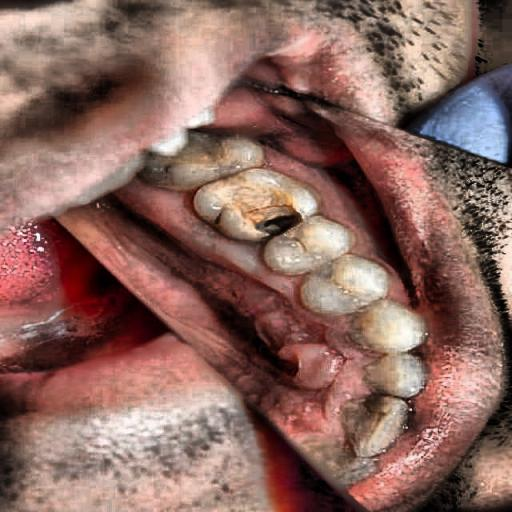Caries: (210, 160, 324, 247)
